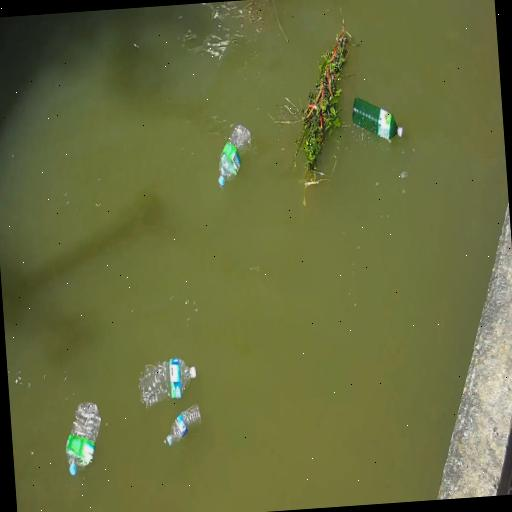plastic: (59, 398, 108, 478), (348, 92, 404, 148), (212, 120, 254, 194), (133, 360, 199, 403), (158, 405, 204, 445)
twig: (278, 27, 358, 185)
